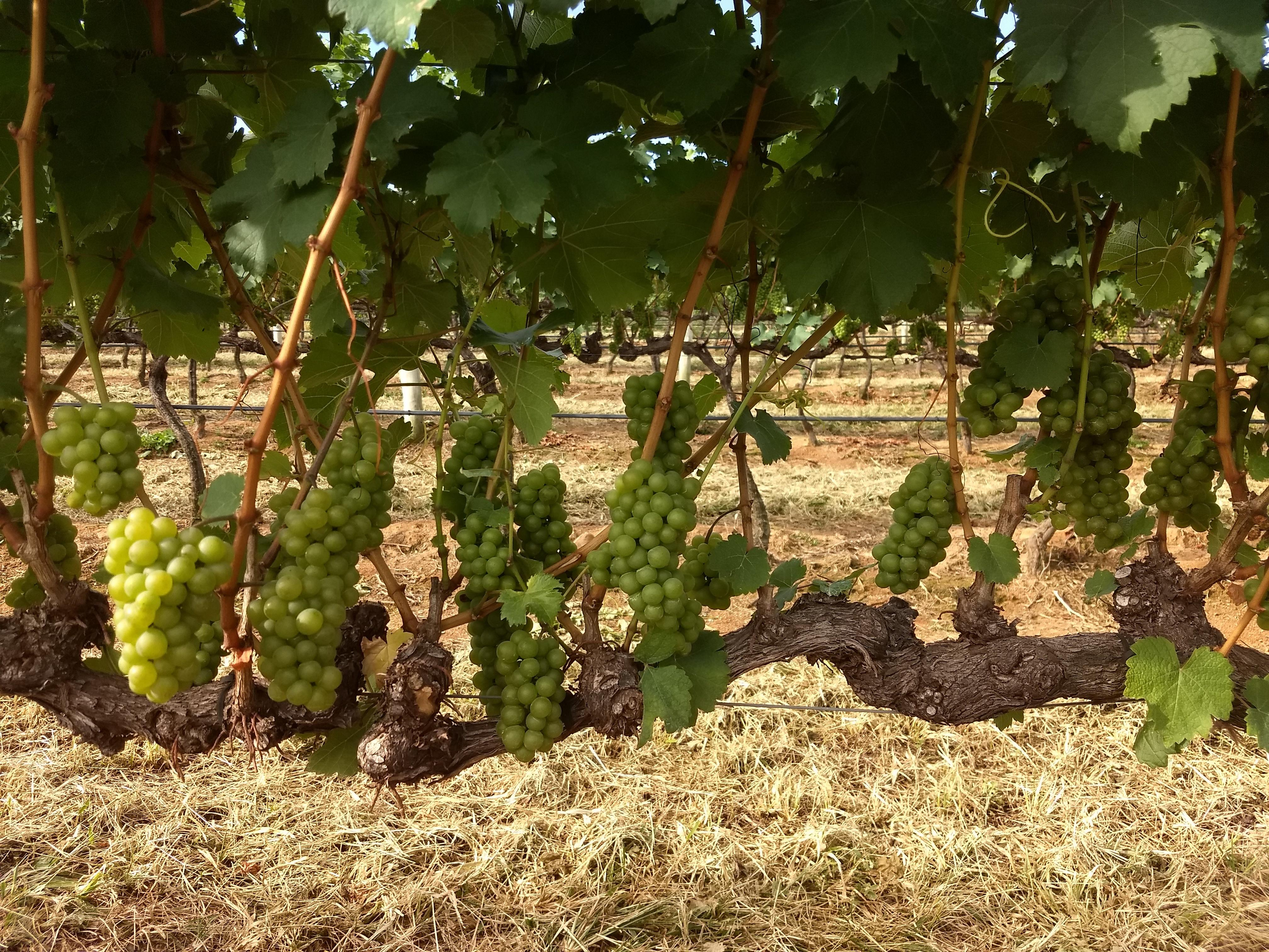leaf: (1013, 0, 1264, 151), (781, 183, 953, 320), (774, 0, 994, 102), (623, 0, 753, 114), (426, 133, 554, 233), (1102, 197, 1210, 309), (1124, 637, 1232, 745), (489, 347, 559, 445), (271, 87, 336, 186), (416, 0, 496, 70), (993, 321, 1074, 389), (329, 0, 434, 49), (672, 629, 730, 712), (638, 665, 696, 746), (306, 715, 375, 776), (708, 534, 770, 594), (499, 573, 562, 626), (735, 408, 792, 465), (968, 532, 1020, 584), (200, 473, 245, 519), (1241, 677, 1268, 750), (693, 374, 724, 419), (1084, 569, 1117, 600), (261, 450, 292, 480), (504, 592, 506, 594)
